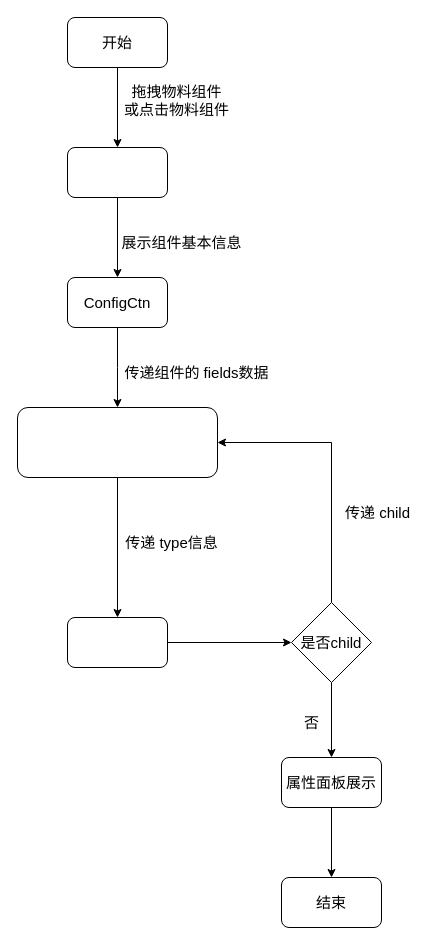
This 440x945 diagram has some shape labels left out. Each missing label, with the centre of its shape:
C ustom S chema T emplate: the point at 117,442
ControlConfig: the point at 117,172
基础类型组件: the point at 117,642
